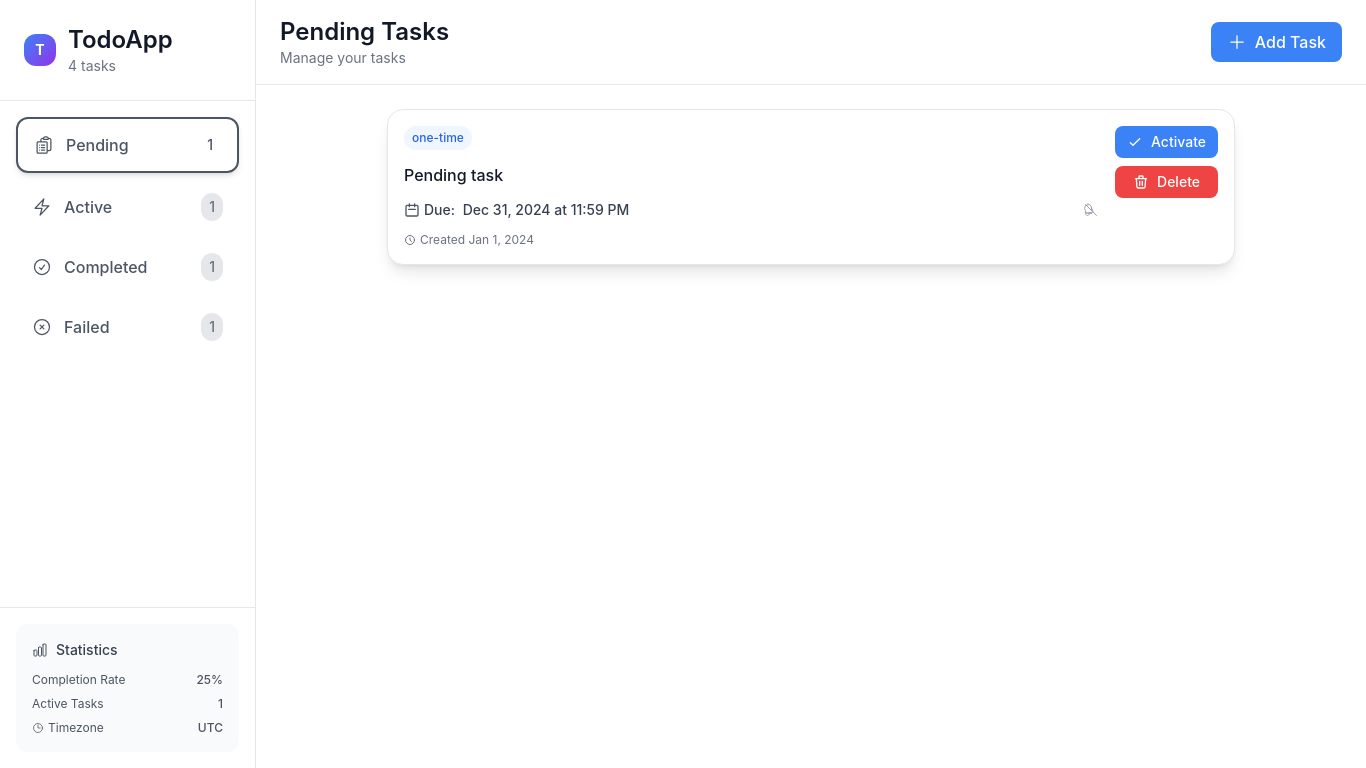
Test case: TodoApp › should open task modal when add task button is clicked
The width and height of the screenshot is (1366, 768).
Click the button "Add Task" at {"x": 1276, "y": 42}, box [1211,22,1342,62]
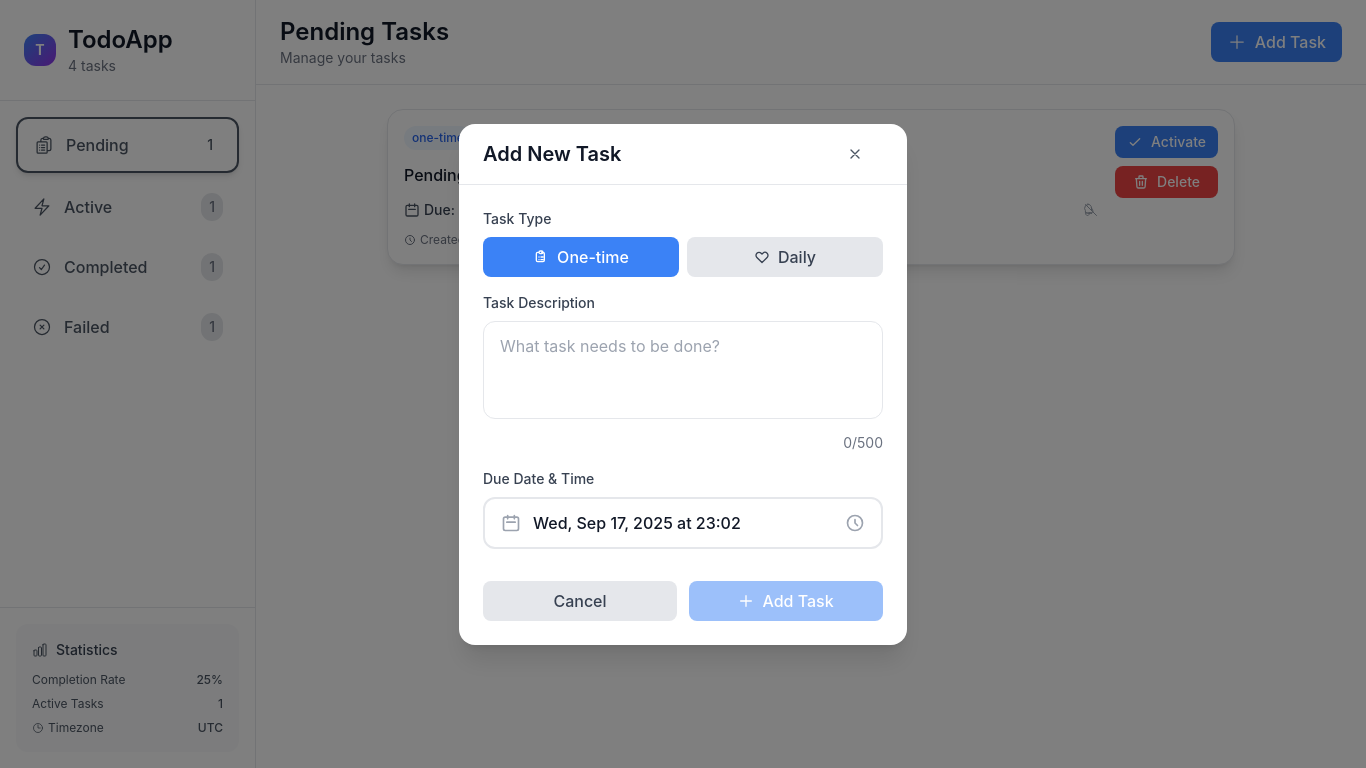
Check: the heading "Add New Task" is shown, box [483,140,621,168]
